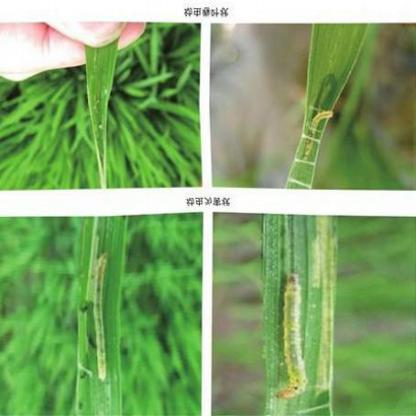leaf-folder: (279, 258, 324, 416), (86, 244, 120, 392), (302, 102, 342, 168)
